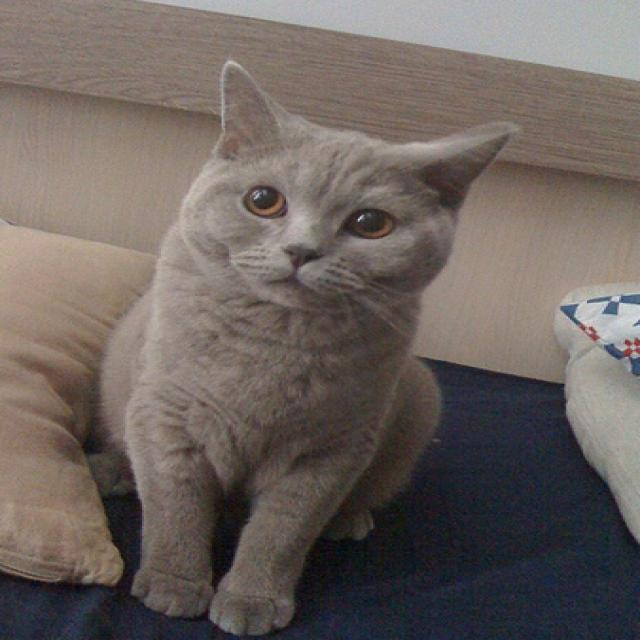British Shorthair: (89, 54, 524, 640)
